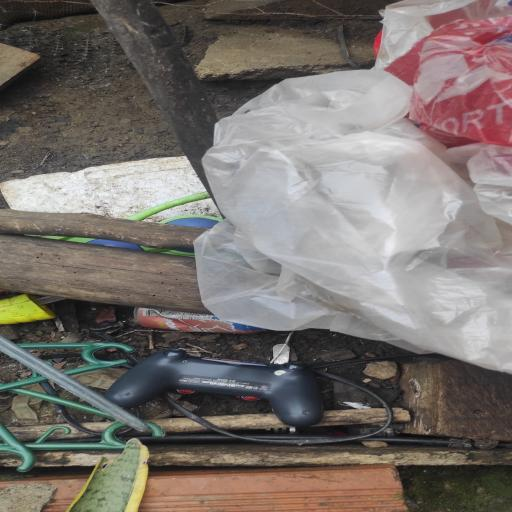ControlPlay4: (106, 349, 324, 427)
